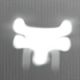plane: (8, 15, 78, 72)
